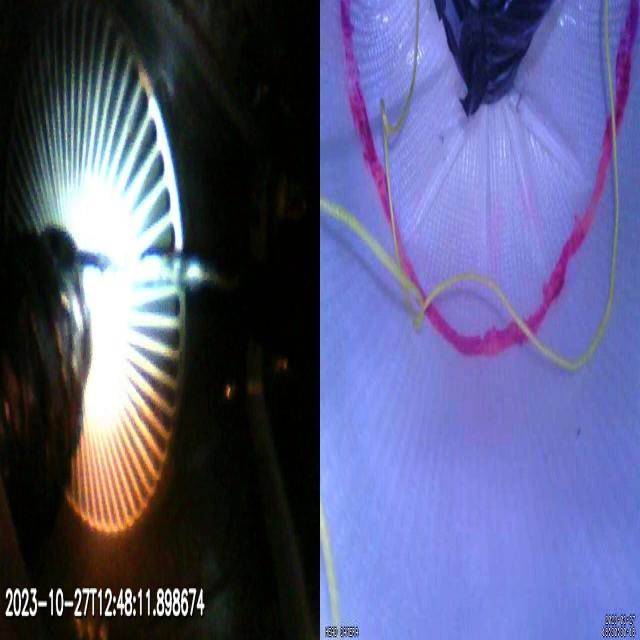red-circle: (339, 0, 640, 360)
